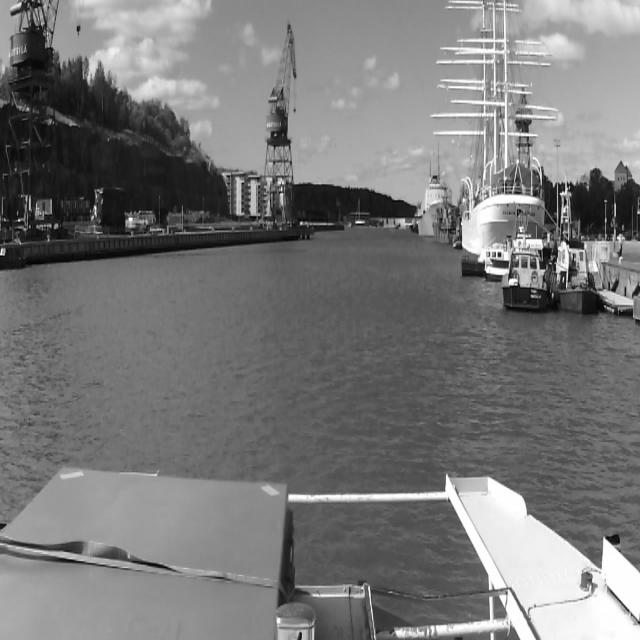ship: (427, 0, 557, 252), (554, 237, 594, 316), (413, 173, 453, 243), (506, 242, 546, 312), (466, 244, 510, 282)
